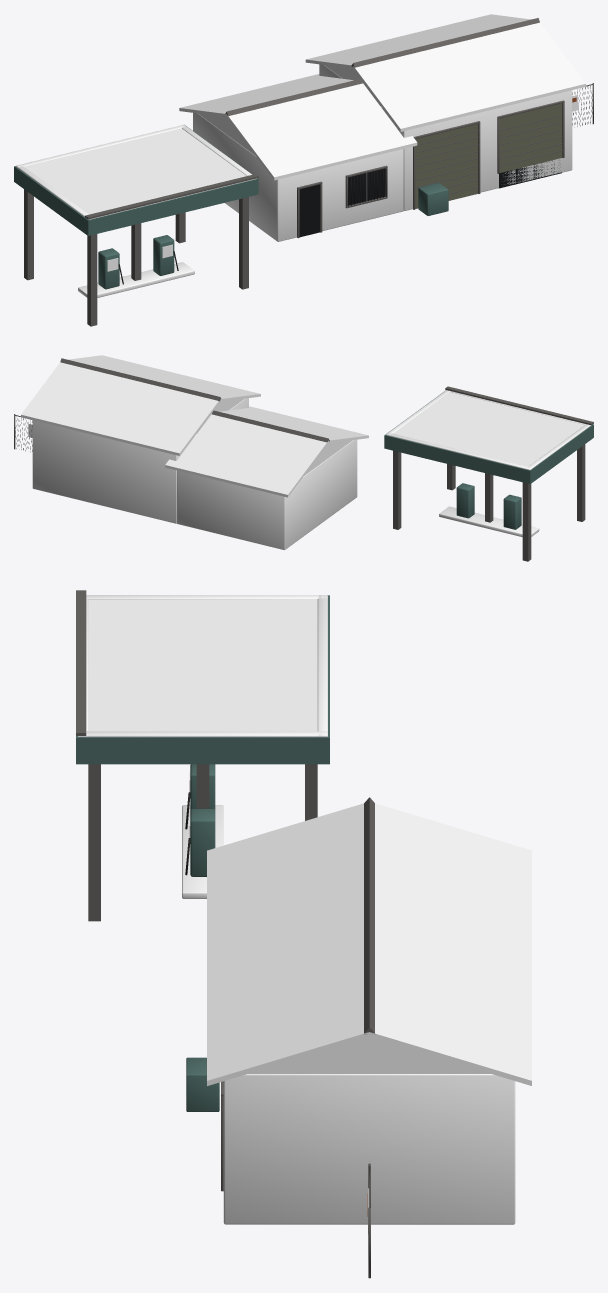
The model's file is bld_gas_station.glb.
The picture shows the model from 3 angles, top to bottom: view 1: azimuth 30°, elevation 25°; view 2: azimuth 150°, elevation 25°; view 3: azimuth 270°, elevation 25°; orthographic projection. The views are drawn at different scales.
Visible parts, largest first — view 1: gs_broof_front, gs_oroof_front, gs_canopy_deck, gs_office, gs_bays, gs_fascia, gs_bay1, gs_bay2, gs_broof_back, gs_oroof_back, gs_island, gs_broof_cap (+15 smaller); view 2: gs_broof_back, gs_office, gs_bays, gs_canopy_deck, gs_oroof_back, gs_fascia, gs_broof_front, gs_oroof_front, gs_island, gs_broof_cap, gs_post.002, gs_post.003 (+10 smaller); view 3: gs_bays, gs_canopy_deck, gs_broof_front, gs_broof_back, gs_oroof_back, gs_oroof_front, gs_fascia, gs_broof_gable, gs_post.001, gs_broof_cap, gs_canopy_coping, gs_canopy_parapet.001 (+5 smaller).
Boxes of the visible parts, left/top/right/bottom form: gs_broof_front: left=353, top=22, right=585, bottom=131; gs_oroof_front: left=226, top=83, right=417, bottom=180; gs_canopy_deck: left=15, top=128, right=256, bottom=219; gs_office: left=193, top=113, right=403, bottom=241; gs_bays: left=319, top=64, right=572, bottom=210; gs_fascia: left=14, top=125, right=258, bottom=235; gs_bay1: left=415, top=124, right=477, bottom=208; gs_bay2: left=499, top=103, right=562, bottom=172; gs_broof_back: left=305, top=14, right=530, bottom=68; gs_oroof_back: left=179, top=74, right=353, bottom=116; gs_island: left=78, top=262, right=194, bottom=297; gs_broof_cap: left=351, top=18, right=539, bottom=67; gs_broof_back: left=21, top=362, right=220, bottom=455; gs_office: left=177, top=439, right=357, bottom=550; gs_bays: left=32, top=398, right=248, bottom=523; gs_canopy_deck: left=386, top=392, right=589, bottom=470; gs_oroof_back: left=165, top=414, right=328, bottom=497; gs_fascia: left=384, top=390, right=593, bottom=483; gs_broof_front: left=68, top=355, right=260, bottom=401; gs_oroof_front: left=219, top=406, right=368, bottom=443; gs_island: left=439, top=506, right=539, bottom=537; gs_broof_cap: left=60, top=358, right=221, bottom=401; gs_post.002: left=522, top=482, right=531, bottom=561; gs_post.003: left=393, top=450, right=401, bottom=529; gs_bays: left=223, top=1074, right=515, bottom=1224; gs_canopy_deck: left=78, top=600, right=327, bottom=736; gs_broof_front: left=207, top=879, right=369, bottom=1085; gs_broof_back: left=369, top=878, right=531, bottom=1085; gs_oroof_back: left=375, top=803, right=531, bottom=925; gs_oroof_front: left=207, top=803, right=363, bottom=925; gs_fascia: left=76, top=595, right=329, bottom=764; gs_broof_gable: left=248, top=1037, right=490, bottom=1073; gs_post.001: left=88, top=764, right=100, bottom=921; gs_broof_cap: left=364, top=872, right=374, bottom=1034; gs_canopy_coping: left=76, top=590, right=86, bottom=735; gs_canopy_parapet.001: left=317, top=595, right=327, bottom=736.
Size of the model in its own units: 28.08 by 5.42 by 10.95.
